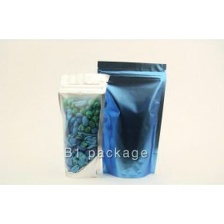snack: (90, 55, 172, 183), (51, 68, 114, 183)
